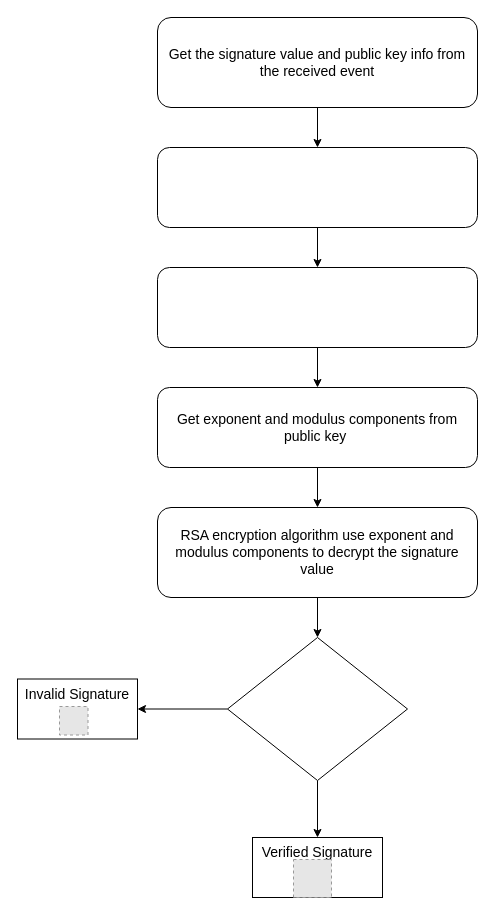
The diagram is 495 pixels wide and 915 high, and some of its shapes have lost their labels. Grey dashed boxes stand in for pictures. Here are the shapes that lost their labels. From the top down, the centre of each, then its label:
At (317,187): "Set signature property to empty string".
At (317,307): "Hash the JSON string using SHA256 hashing algorithm to get message digest".
At (317,708): "The decrypted value equals the hashed message digest?".
